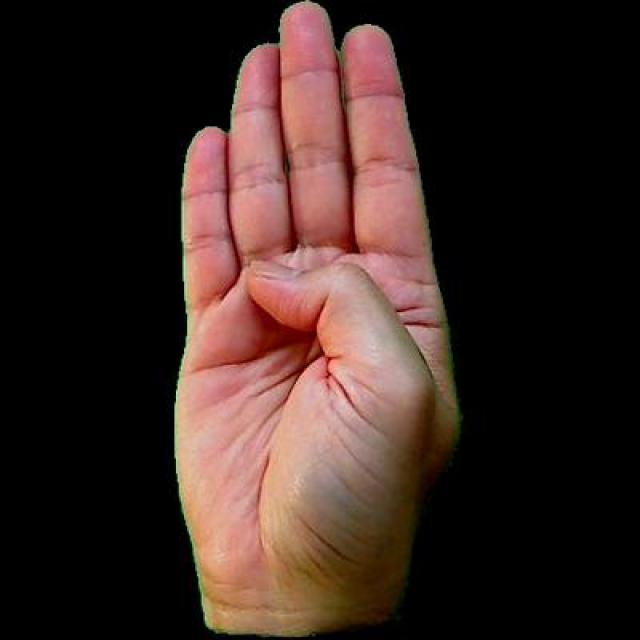b: (150, 0, 483, 637)
